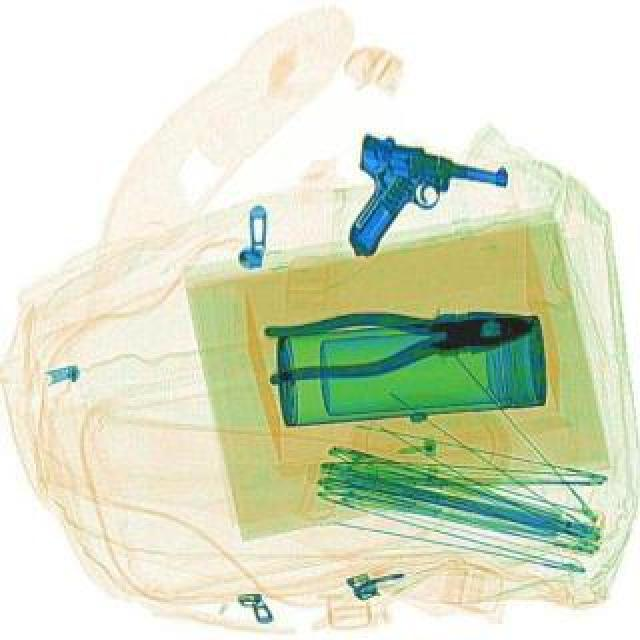gun: (330, 130, 512, 282)
wrench: (260, 286, 536, 386)
